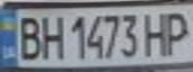1: (66, 11, 87, 60)
3: (118, 10, 145, 60)
4: (84, 11, 106, 60)
7: (103, 11, 124, 60)
B: (12, 12, 45, 61)
H: (139, 8, 172, 57), (36, 11, 66, 61)
P: (160, 8, 193, 56)
